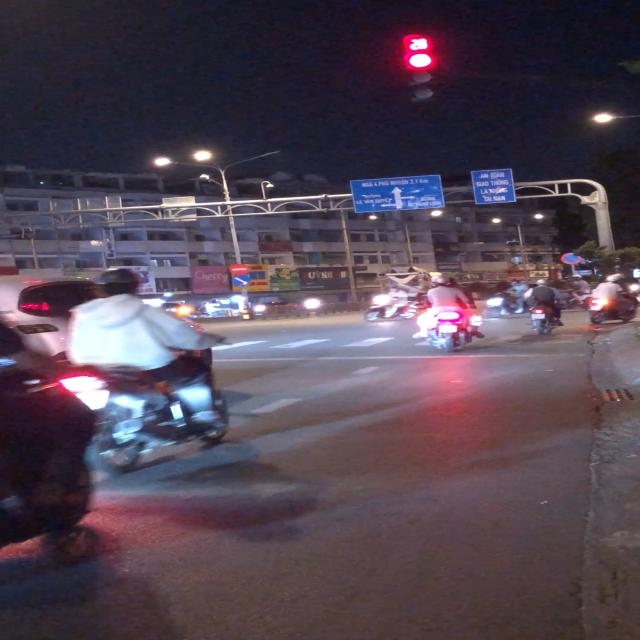Bien bao cam di nguoc chieu: (228, 263, 250, 275)
Bien bao huong phai di vong chuong ngai vat: (229, 276, 253, 288)
